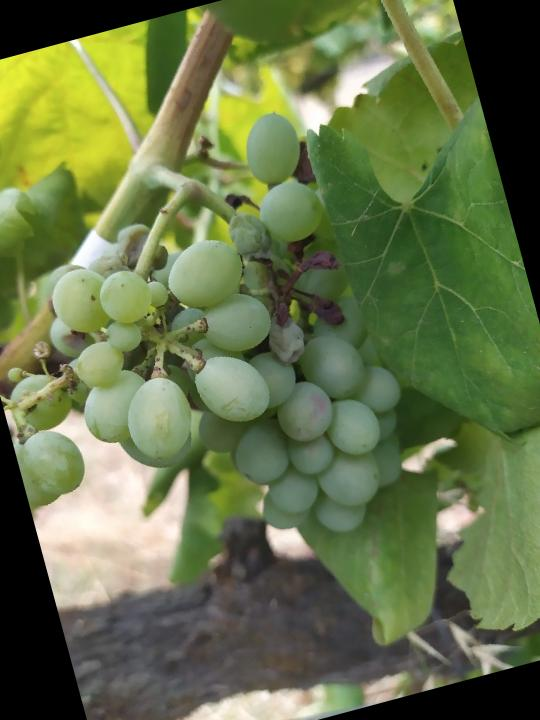grape: (0, 96, 438, 619)
